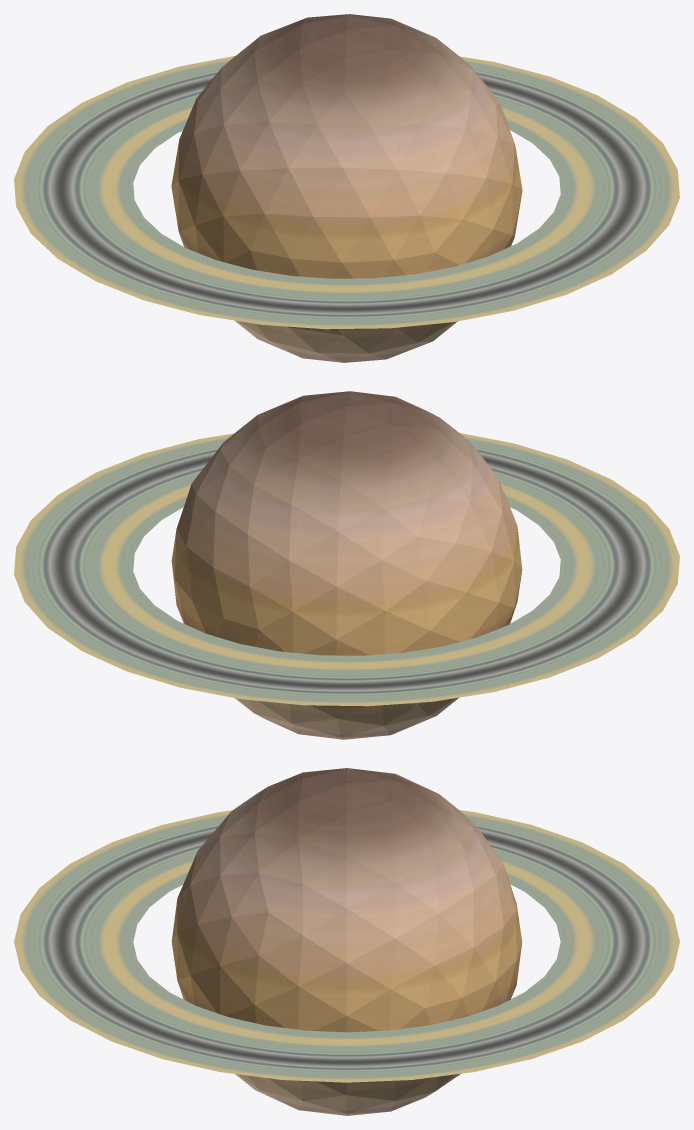
The model's file is Saturn.gltf.
3 renders of one model, top to bottom at view 1: azimuth 30°, elevation 25°; view 2: azimuth 150°, elevation 25°; view 3: azimuth 270°, elevation 25°, orthographic.
Parts seen in each view (by area): view 1: Saturn; view 2: Saturn; view 3: Saturn.
Boxes of the visible parts, x1=… form: Saturn: x1=14, y1=14, x2=679, y2=362; Saturn: x1=14, y1=391, x2=679, y2=739; Saturn: x1=14, y1=768, x2=679, y2=1115.
Bounding box in the file's own units: 3.8 × 2 × 3.8.
2 materials, 2 textured.
